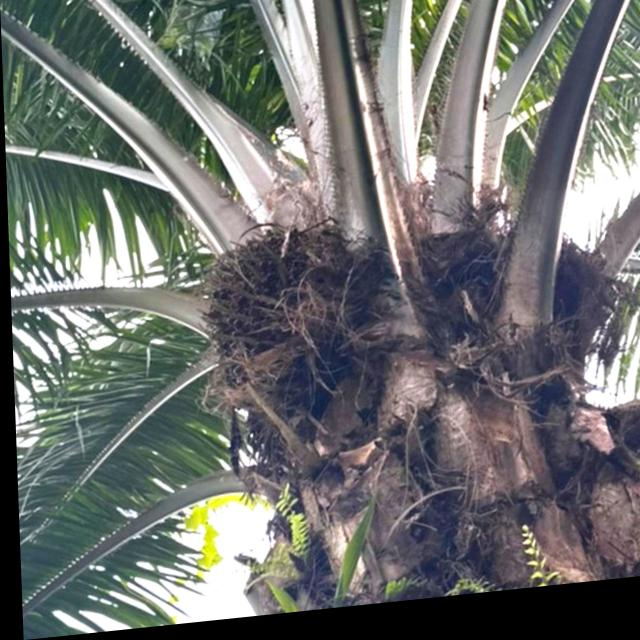ripe: (195, 219, 362, 395)
